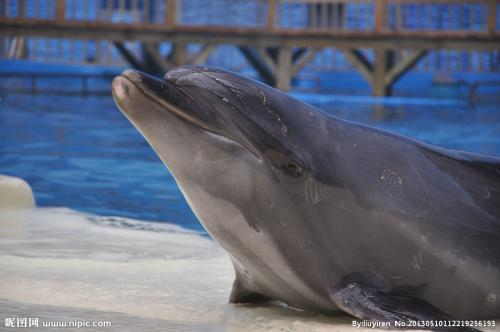fish: (110, 60, 500, 324)
